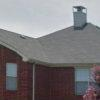Chimney: (67, 2, 95, 30)
